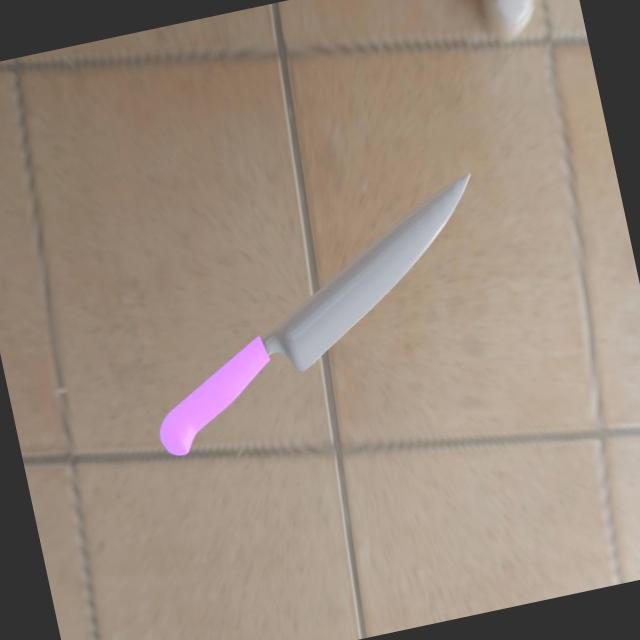knife: (143, 334, 287, 458)
